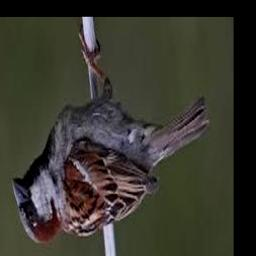Sparrow: (12, 28, 209, 245)
